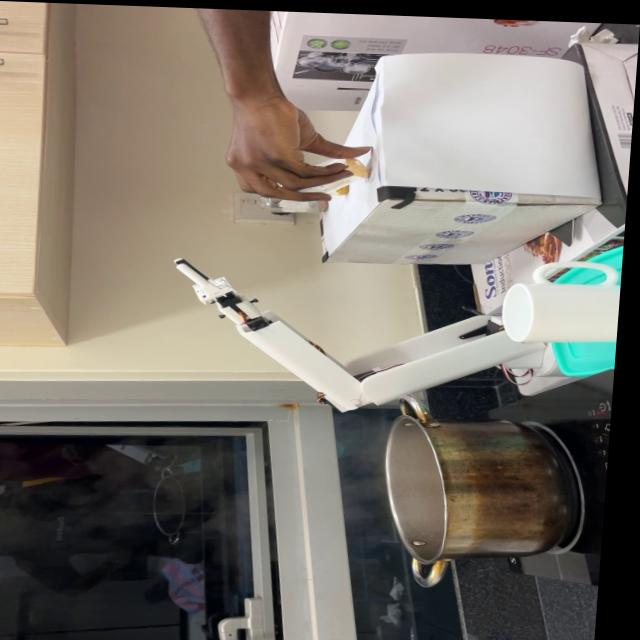cooking_pot: (391, 386, 586, 595)
garlic_powder: (348, 153, 378, 180)
maggie_open: (312, 195, 333, 208)
